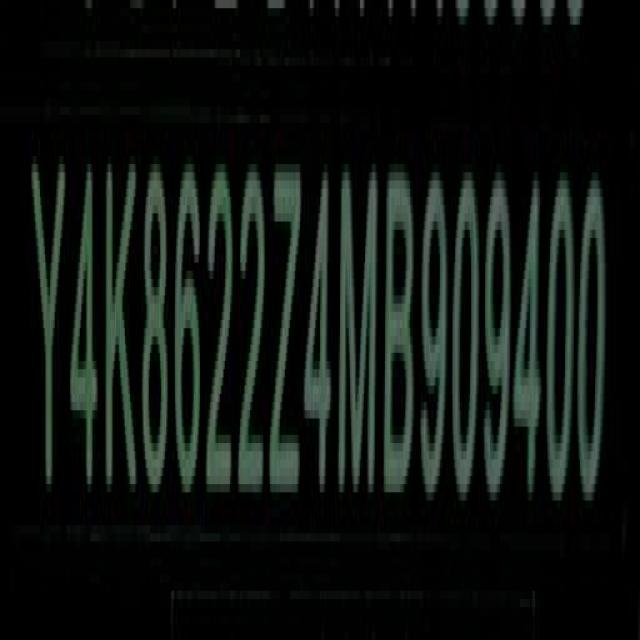0: (578, 176, 608, 511), (544, 173, 573, 510), (453, 171, 481, 508)
2: (238, 160, 268, 504), (206, 162, 236, 505)
4: (69, 150, 101, 505), (305, 167, 335, 503), (514, 171, 543, 509)
6: (175, 155, 205, 510)
8: (142, 158, 171, 508)
9: (419, 172, 448, 508), (484, 171, 512, 509)
B: (387, 166, 419, 507)
K: (103, 161, 138, 499)
M: (341, 162, 381, 500)
Y: (30, 161, 66, 492)
Z: (270, 166, 302, 505)
